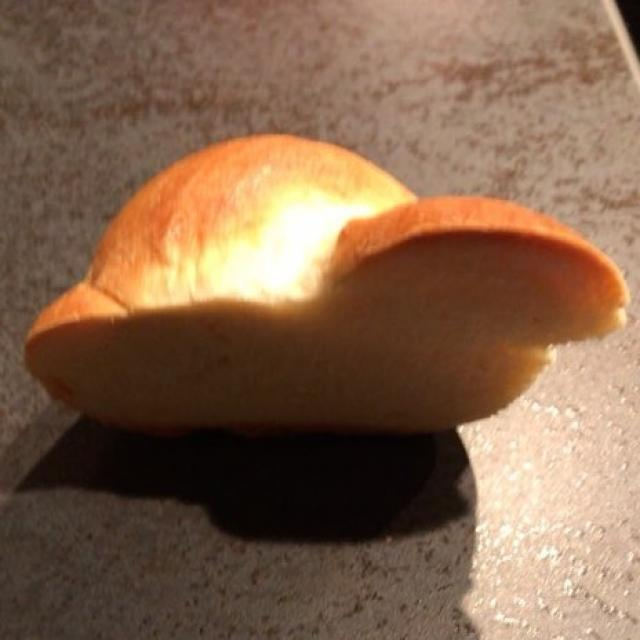braided-white-loaf: (30, 124, 626, 430)
